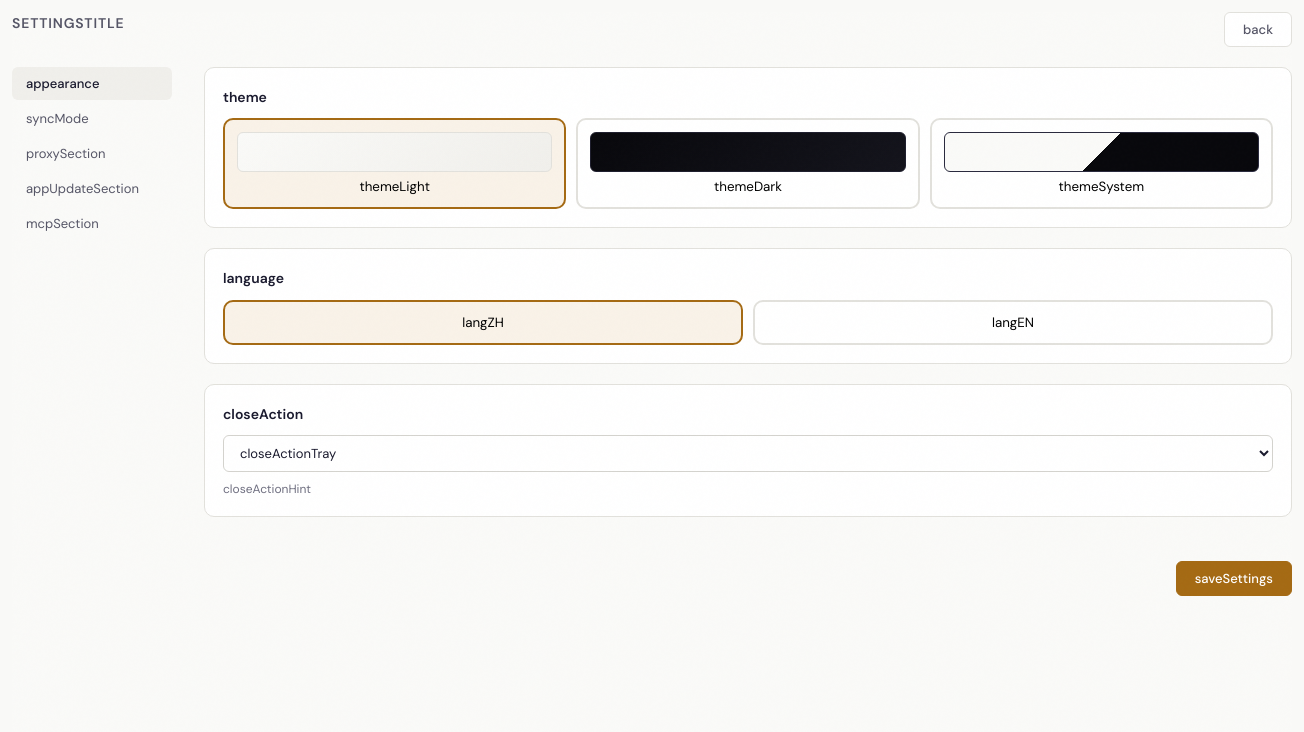
Scenario: SettingsPanel › shows a manual-proxy TLS hint when the update check fails with a https proxy
Click the button "appUpdateSection": (92, 188) [12,172,172,205]
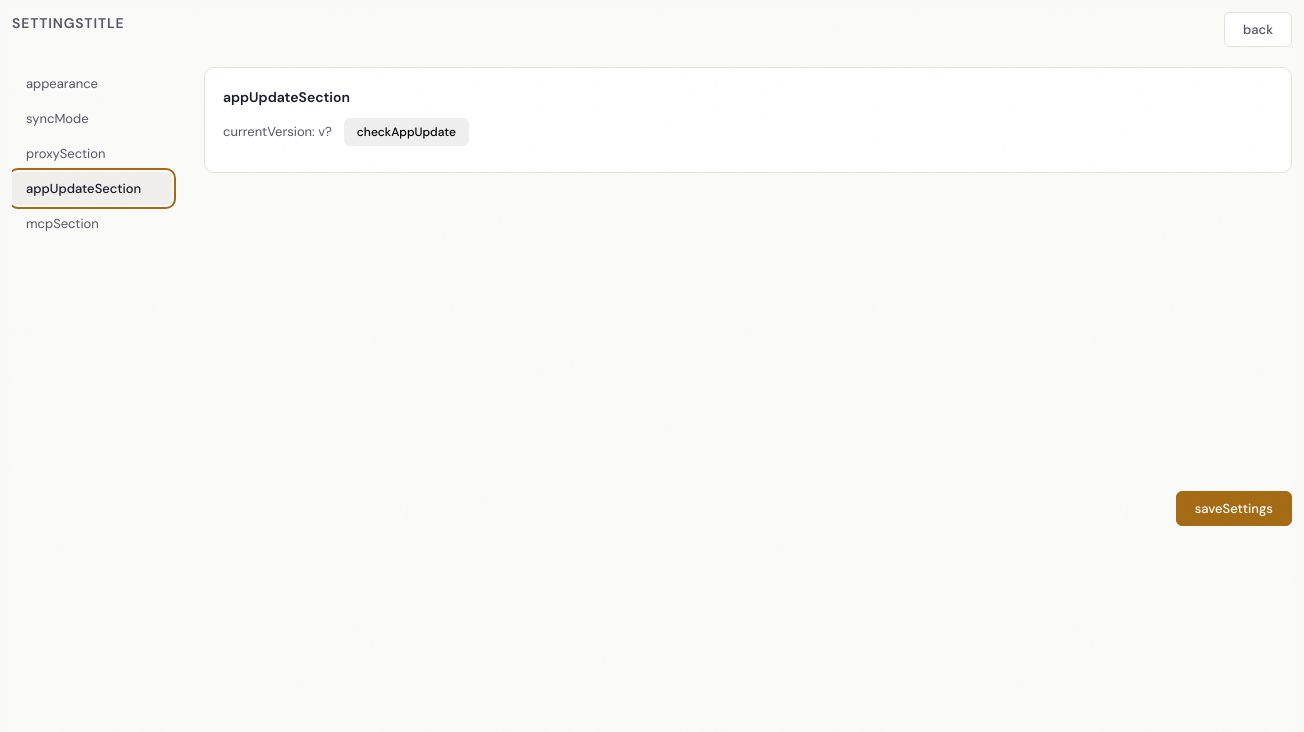
Click the button "checkAppUpdate": (406, 132) [344,118,469,146]
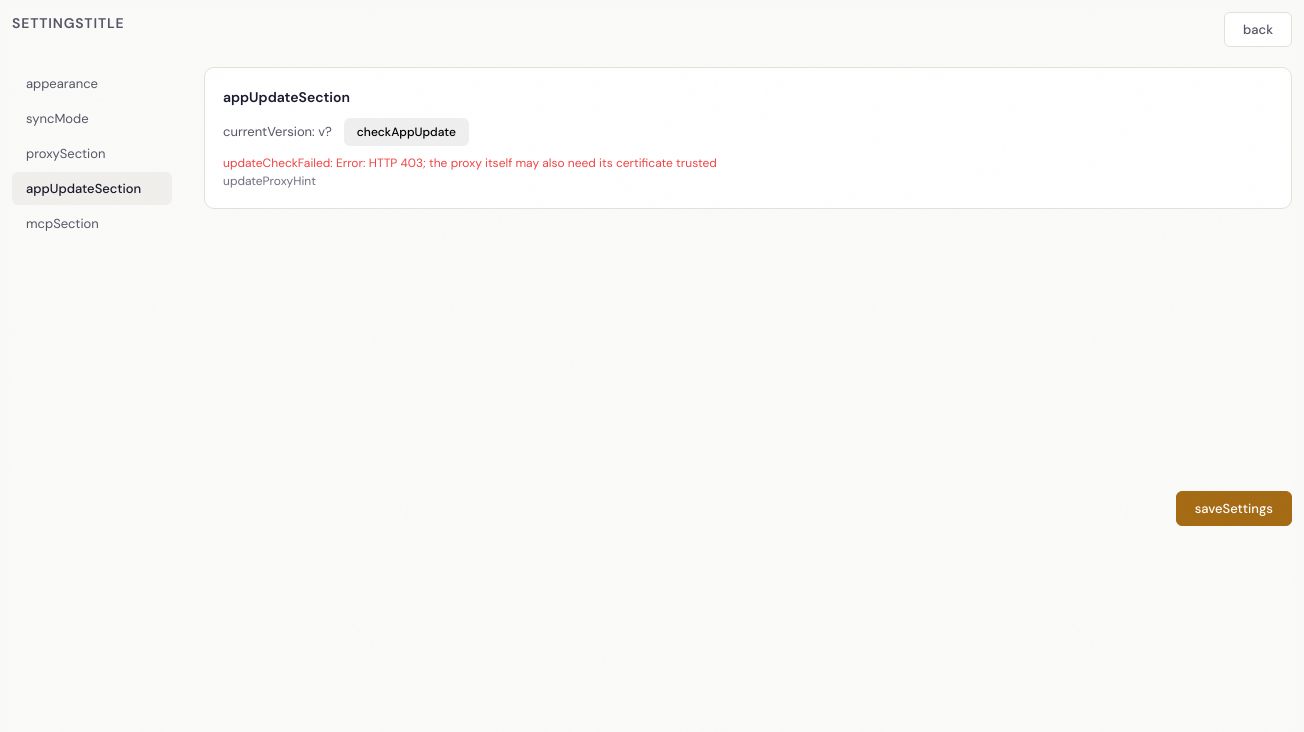
Expected: the text "updateCheckFailed:" shows "updateCheckFailed: Error: HTTP 403; the proxy itself may also need its certificate trusted", [223,155,717,171]
